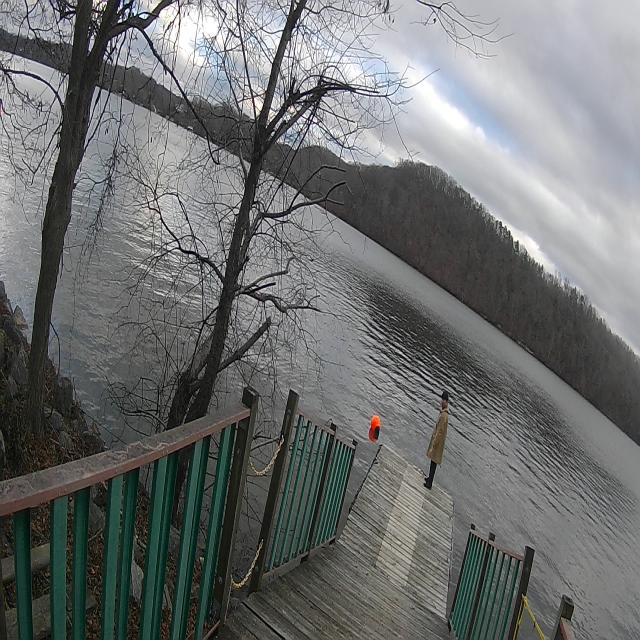Buoy: (365, 402, 386, 452)
